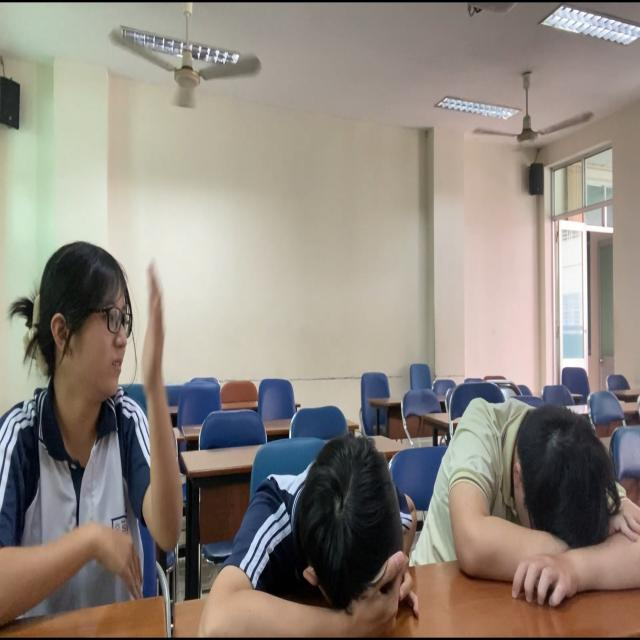raise_hand: (1, 229, 183, 640)
sleep: (216, 420, 425, 640), (439, 386, 637, 599)
